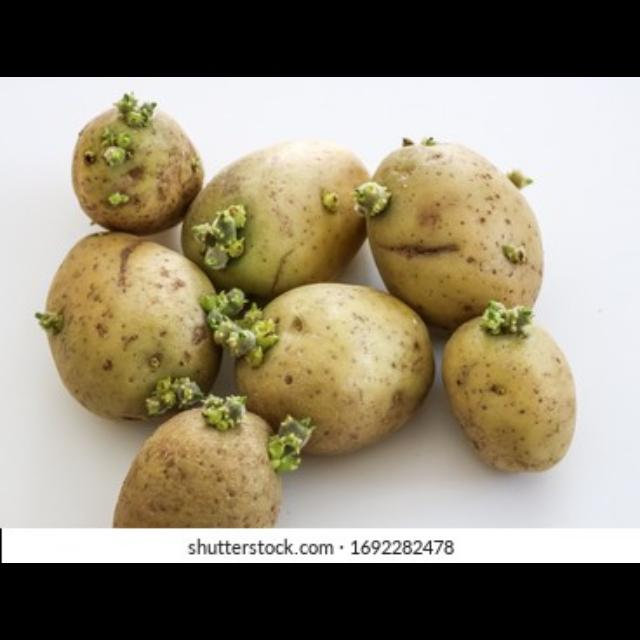Sprouted potato: (206, 281, 438, 469), (31, 223, 226, 424), (354, 131, 542, 335), (176, 130, 392, 306), (116, 379, 327, 527), (435, 302, 575, 482), (67, 93, 207, 241)
